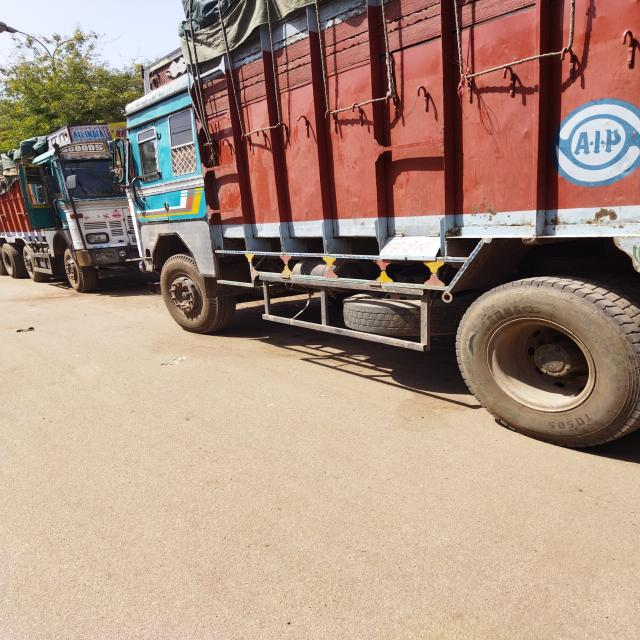Truck: (118, 0, 640, 434)
